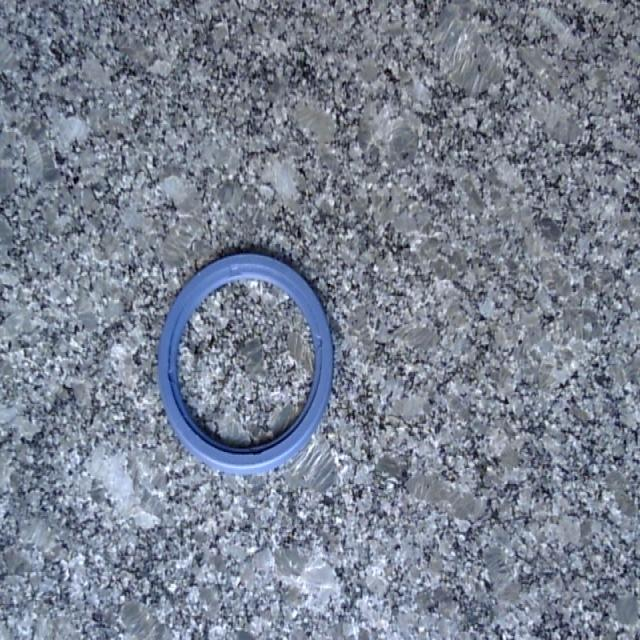cobalt-blue-ring: (159, 255, 332, 473)
